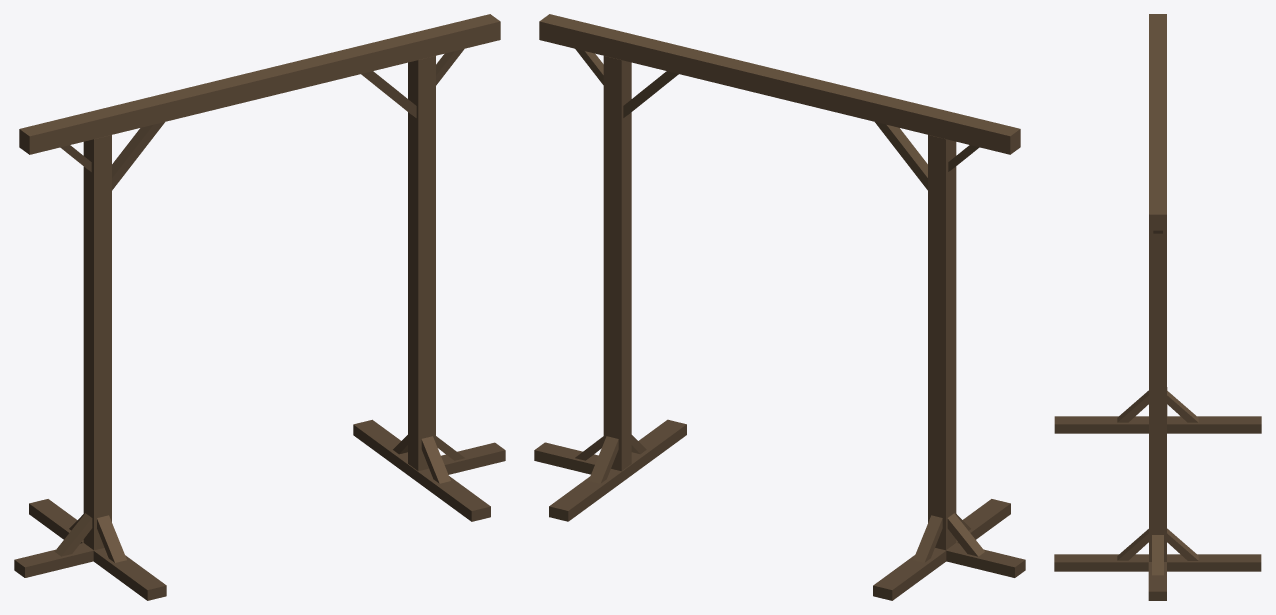
Rendered from Gallows.fbx.
The picture shows the model from 3 angles, left to right: view 1: azimuth 30°, elevation 25°; view 2: azimuth 150°, elevation 25°; view 3: azimuth 270°, elevation 25°; orthographic projection. The views are drawn at different scales.
Parts seen in each view (by area): view 1: torture_device_005; view 2: torture_device_005; view 3: torture_device_005.
Boxes of the visible parts, left/top/right/bottom form: torture_device_005: left=14, top=14, right=505, bottom=600; torture_device_005: left=534, top=14, right=1025, bottom=600; torture_device_005: left=1054, top=14, right=1261, bottom=600.
Size of the model in its own units: 539 by 472 by 230.
